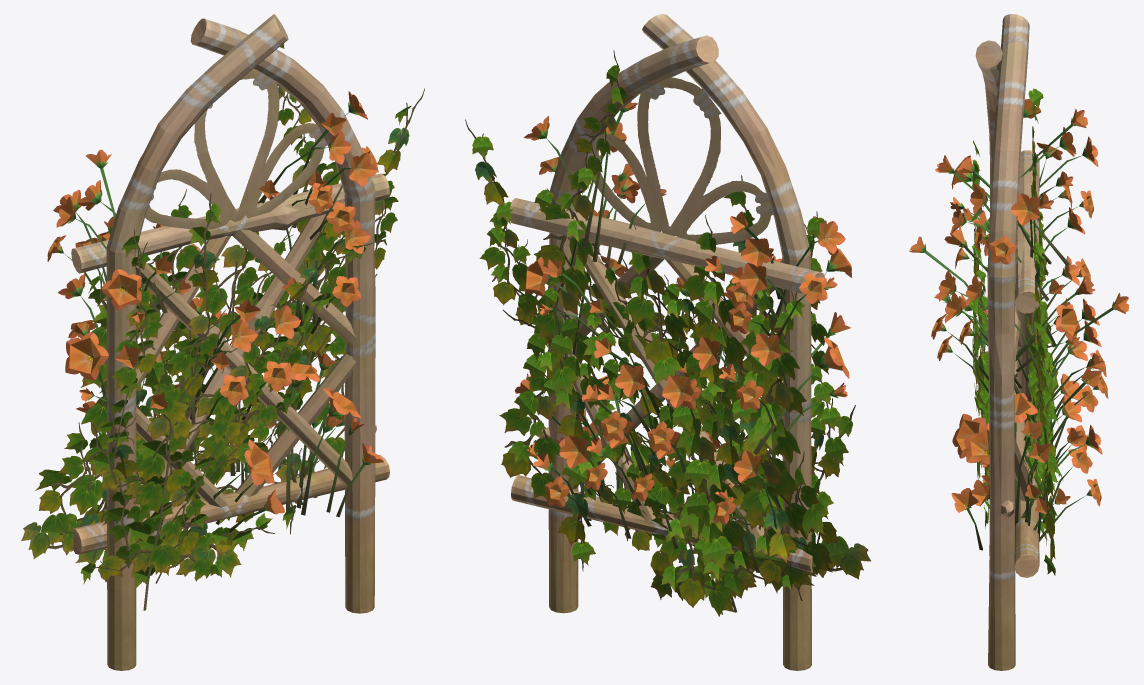
File: P_Roselingxiao02.obj
3 renders of one model, left to right at view 1: azimuth 30°, elevation 25°; view 2: azimuth 150°, elevation 25°; view 3: azimuth 270°, elevation 25°, orthographic. The views are drawn at different scales.
Bounding box in the file's own units: 2.39 × 3.34 × 1.15.
32 materials, 32 textured.
